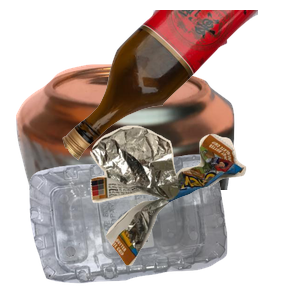glass: (60, 10, 300, 163)
metal: (13, 61, 240, 241)
plastic: (27, 152, 247, 300)
trash: (88, 123, 300, 300)
